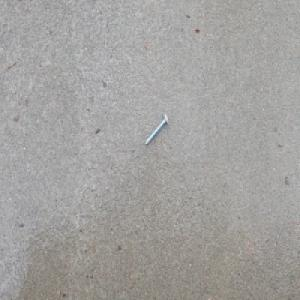Nail: (142, 112, 168, 147)
